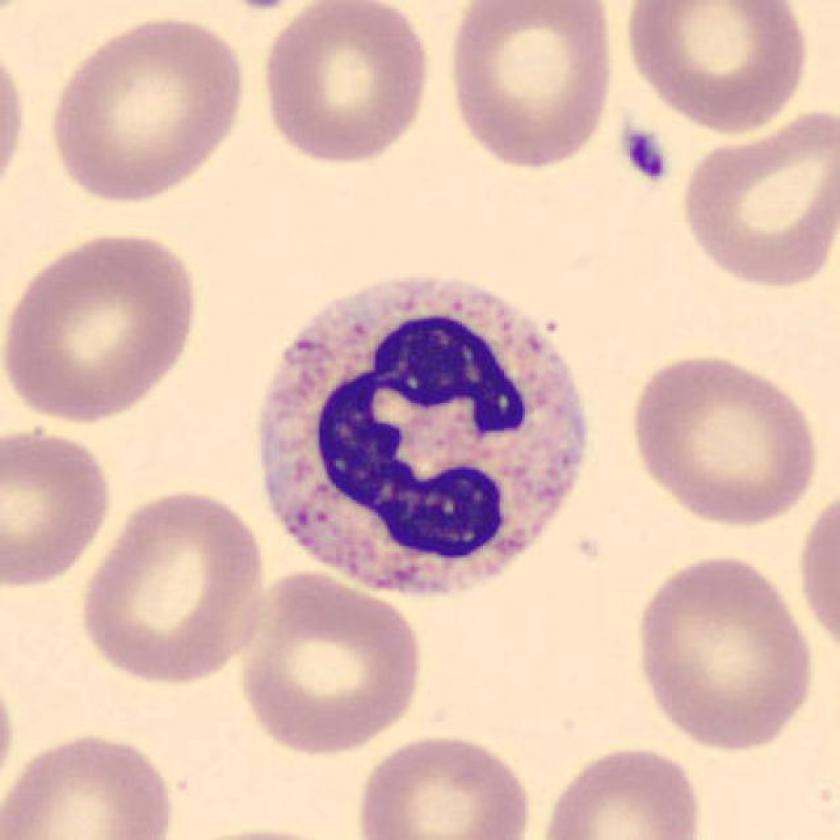neutrophil: (258, 278, 585, 596)
